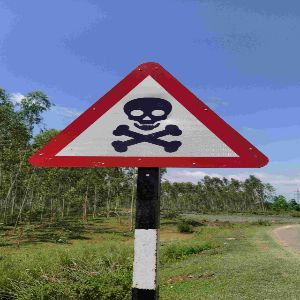Accident prone area: (25, 53, 278, 182)
